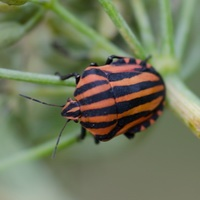insect: (61, 55, 164, 143)
